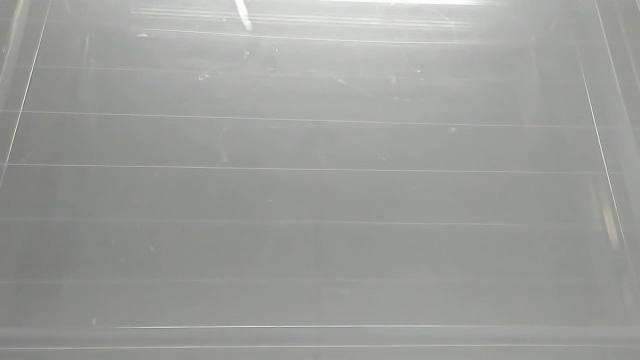alpha: (228, 1, 257, 34)
